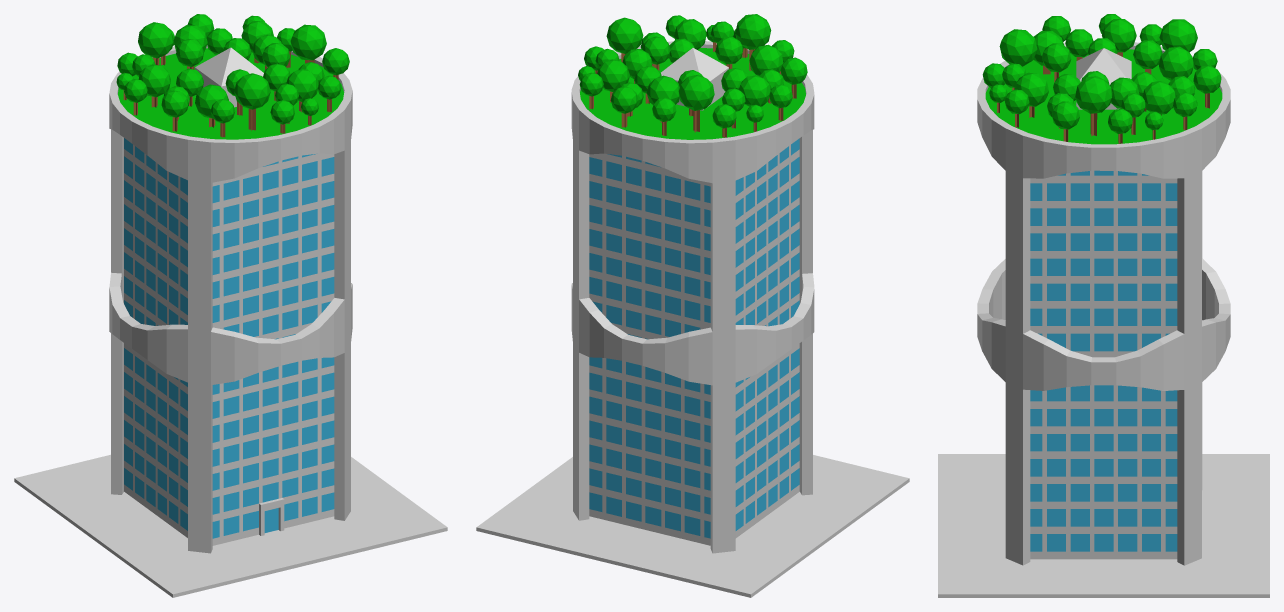
File: Chroma Skyscraper i.fbx
3 renders of one model, left to right at view 1: azimuth 30°, elevation 25°; view 2: azimuth 150°, elevation 25°; view 3: azimuth 270°, elevation 25°, orthographic. The views are drawn at different scales.
Visible parts, largest first — view 1: Cube, Ground; view 2: Cube, Ground; view 3: Cube, Ground.
Boxes of the visible parts, x1,y1,x2,y2 form: Cube: (109, 14, 352, 553); Ground: (14, 454, 447, 597); Cube: (571, 14, 814, 553); Ground: (476, 455, 909, 597); Cube: (977, 14, 1230, 565); Ground: (938, 454, 1269, 597).
Size of the model in its own units: 1200 by 1946 by 1200.
